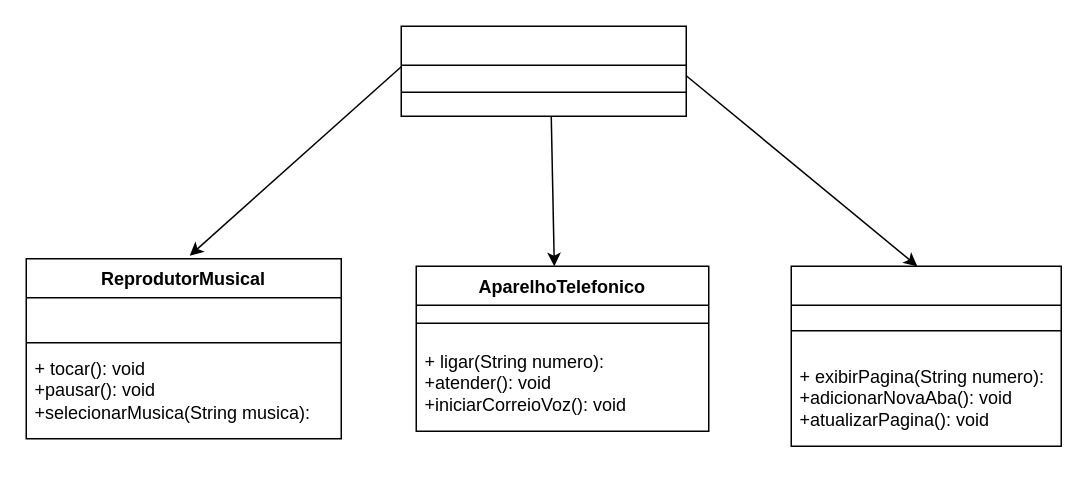
Image size: 1088x477. Some labels were removed from this diagram. The shapes that lost their labels are listed below. From the top down, each one's box as (x1, y1, x2, y2) in pixels, then its label:
(400, 25, 686, 116): iPhone
(790, 265, 1061, 446): NavegadorInternet
